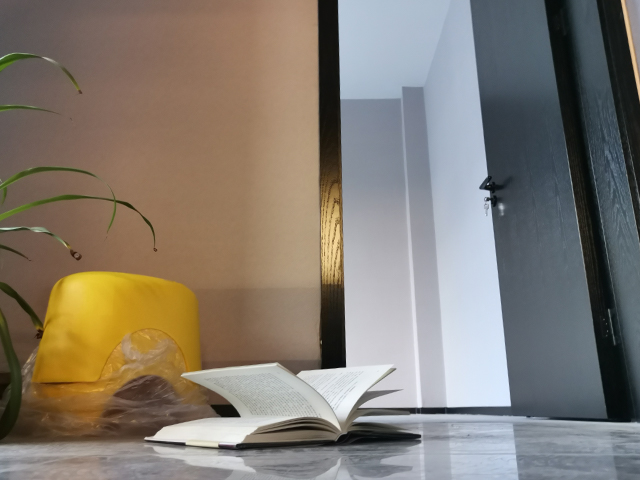book: (142, 361, 423, 452)
stool: (20, 270, 205, 441)
